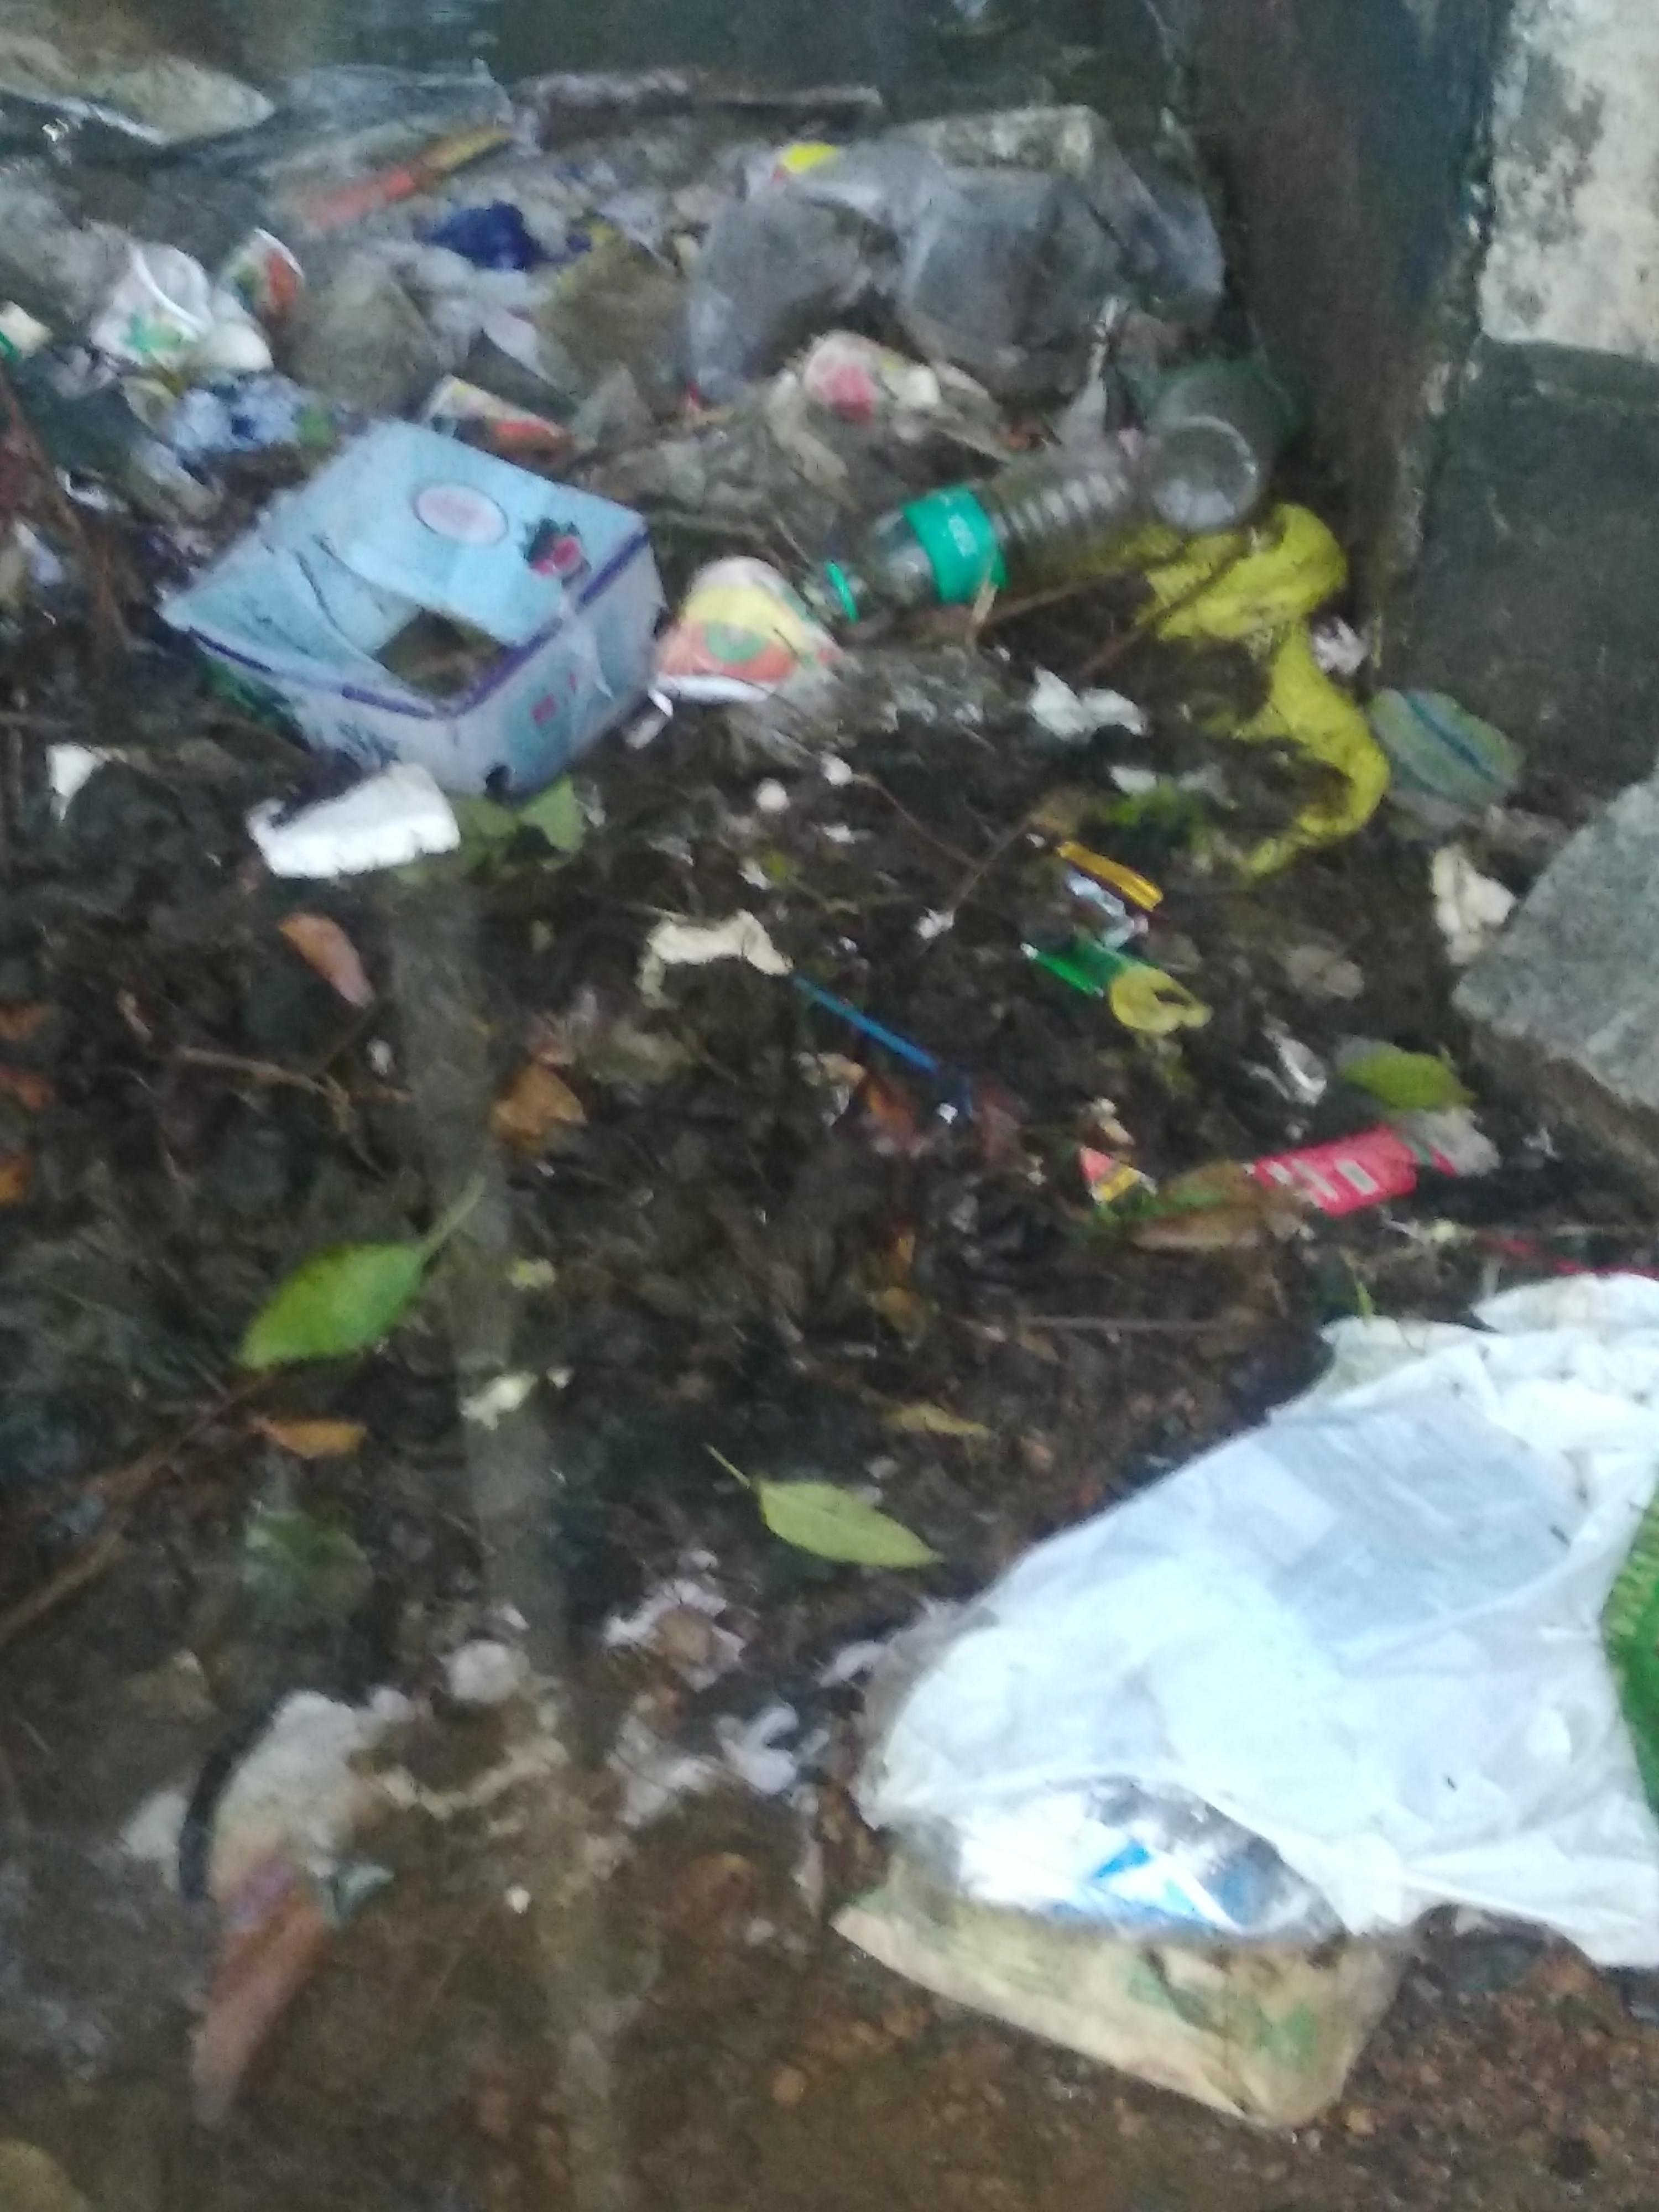trash: (5, 17, 1659, 2127)
